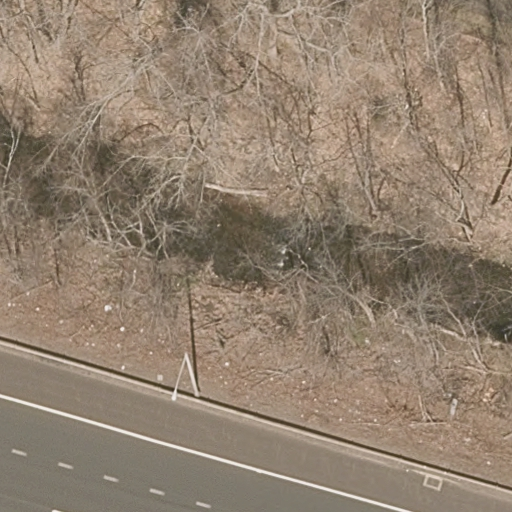DT: (170, 352, 201, 404)
